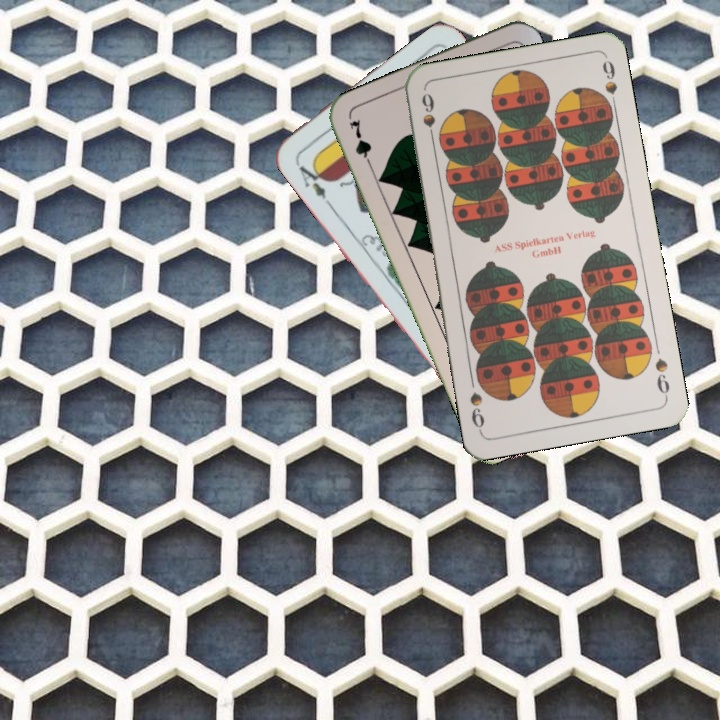EA: (291, 157, 333, 208)
G7: (345, 115, 376, 173)
S9: (417, 88, 438, 148), (651, 354, 672, 401)
